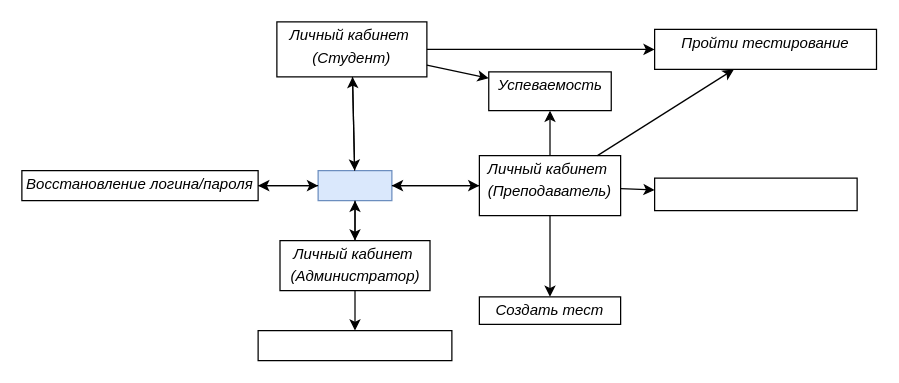
Image size: 899x383. Some labels were removed from this diagram. Here are the shapes that lost their labels. From the top down, the box of each, then its label:
(317, 169, 392, 201): Вход
(653, 177, 857, 211): Успеваемость по тесту
(257, 329, 452, 361): Создать пользователя
